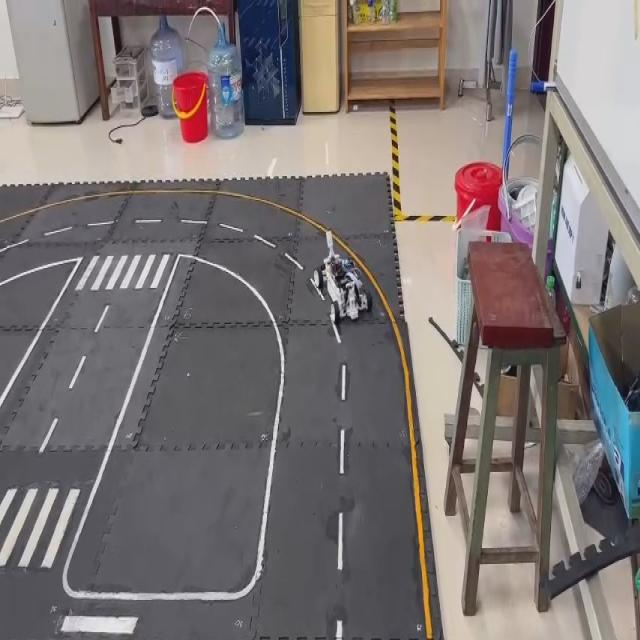SiCo-CAR: (312, 228, 372, 325)
